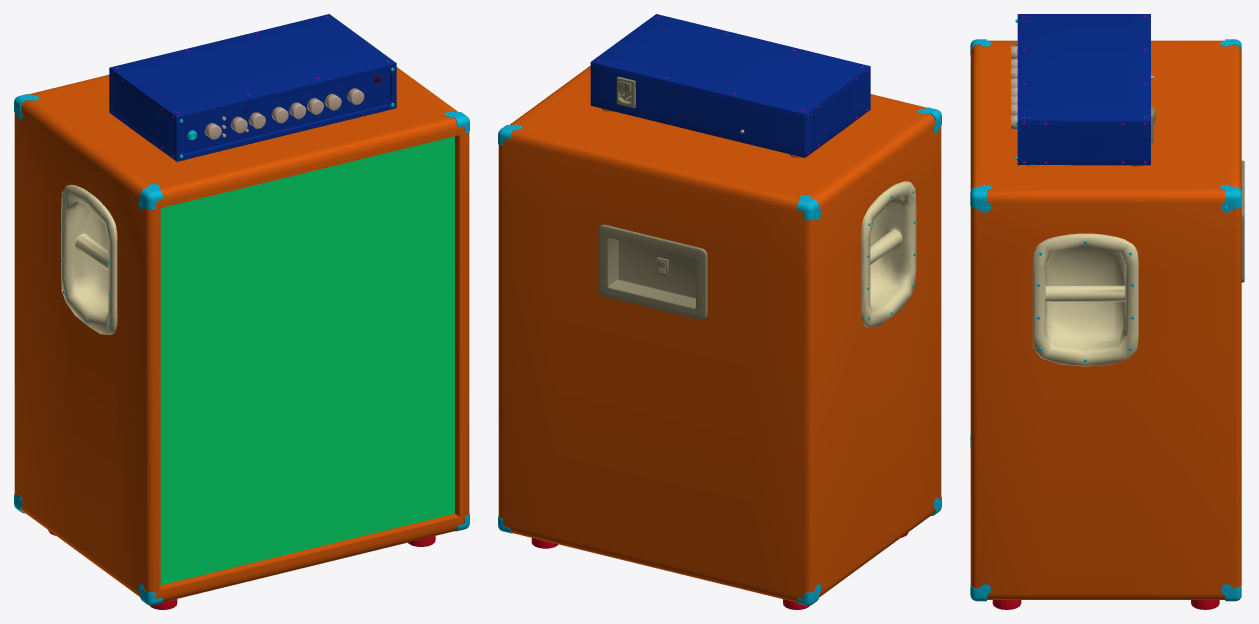
The model's file is bass_amp.glb.
3 renders of one model, left to right at view 1: azimuth 30°, elevation 25°; view 2: azimuth 150°, elevation 25°; view 3: azimuth 270°, elevation 25°, orthographic. The views are drawn at different scales.
Visible parts, largest first — view 1: Cab, Head; view 2: Cab, Head; view 3: Cab, Head.
Boxes of the visible parts, <box> form: Cab: <box>14,67,469,609</box>; Head: <box>109,14,396,161</box>; Cab: <box>498,65,941,609</box>; Head: <box>590,14,870,157</box>; Cab: <box>970,39,1244,609</box>; Head: <box>1011,14,1155,165</box>.
Bounding box in the file's own units: 0.6847 × 0.9428 × 0.4931.
